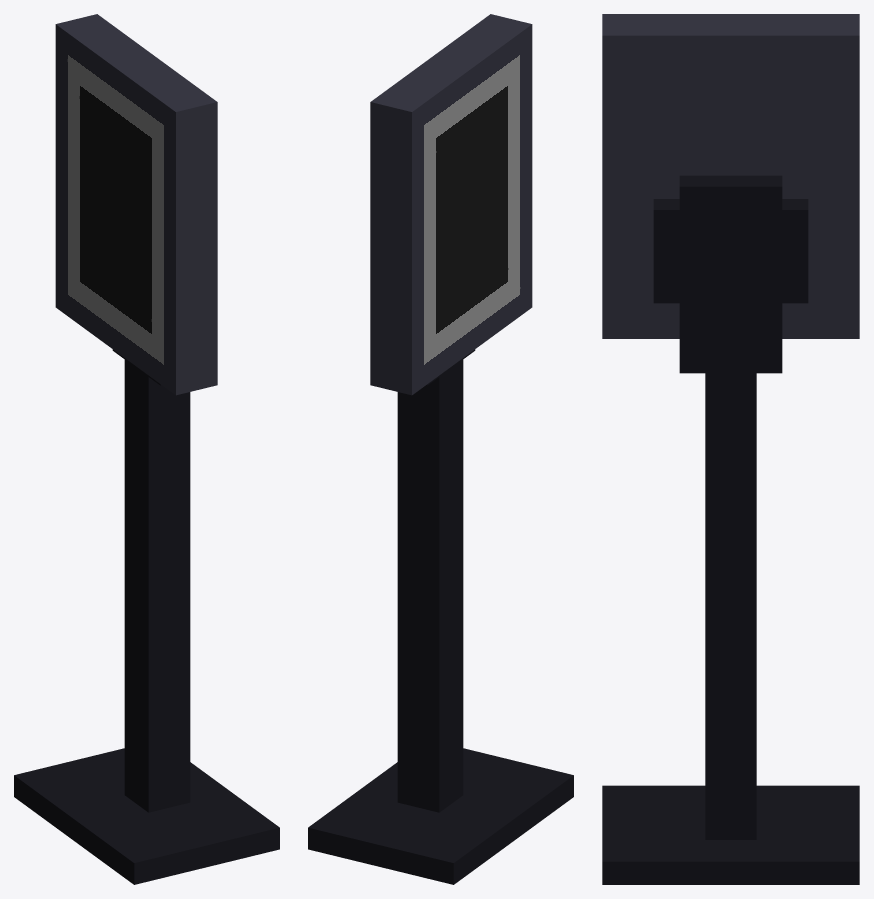
The model's file is speaker.fbx.
3 renders of one model, left to right at view 1: azimuth 30°, elevation 25°; view 2: azimuth 150°, elevation 25°; view 3: azimuth 270°, elevation 25°, orthographic. The views are drawn at different scales.
Parts seen in each view (by area): view 1: speaker; view 2: speaker; view 3: speaker.
Boxes of the visible parts, box(x1,y1,x2,y2) form: speaker: box(14, 14, 279, 884); speaker: box(308, 14, 573, 884); speaker: box(602, 14, 859, 884).
Bounding box in the file's own units: 7 × 35 × 10.
